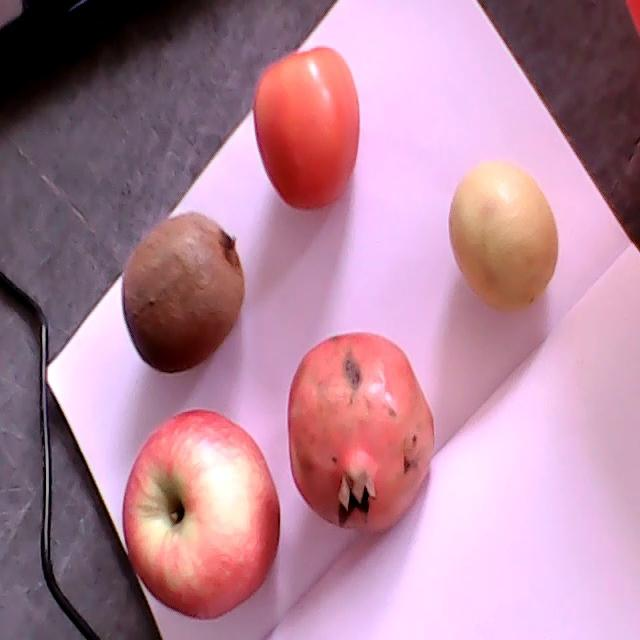apple: (123, 410, 279, 619)
kiwi: (124, 213, 244, 373)
lemon: (451, 166, 556, 312)
pomegranate: (289, 334, 434, 531)
tomato: (253, 45, 358, 209)
